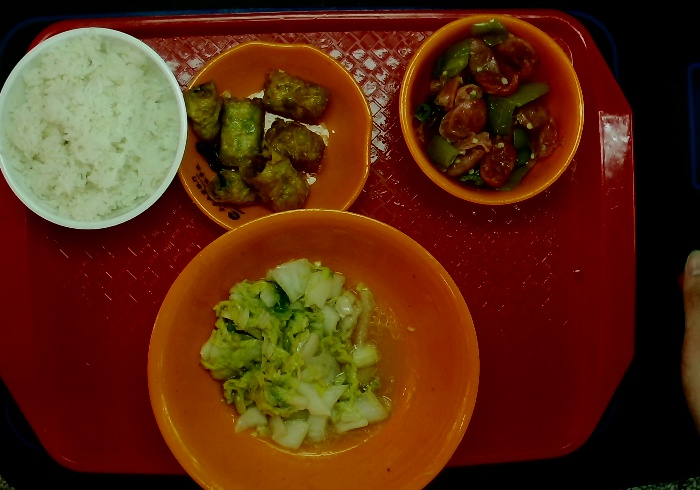YKMZ-Fan_Wan: (1, 26, 188, 234)
YKMZ-Ju_Se_Ao_Bian_Wan: (180, 41, 373, 224)
YKMZ-Ju_Se_Tang_Wan: (147, 204, 481, 490)
YKMZ-Ju_Se_Yuan_Wan: (397, 12, 584, 206)
